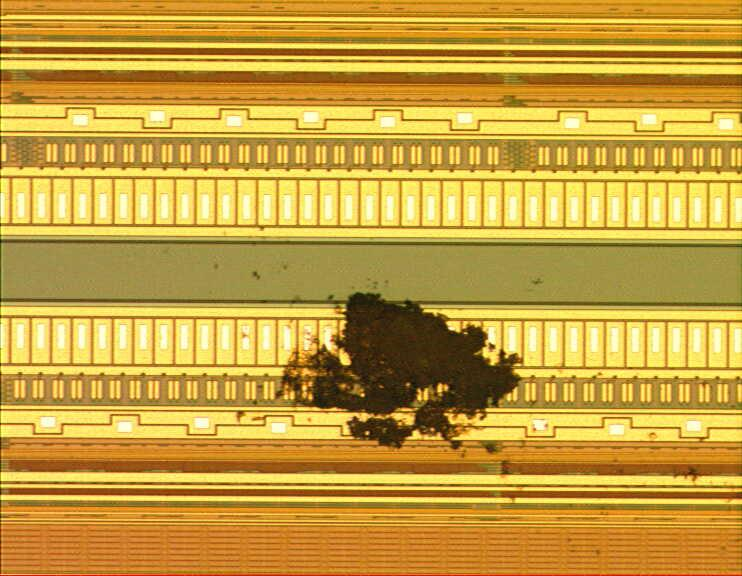PO CONTAMINATION: (155, 220, 718, 562)
